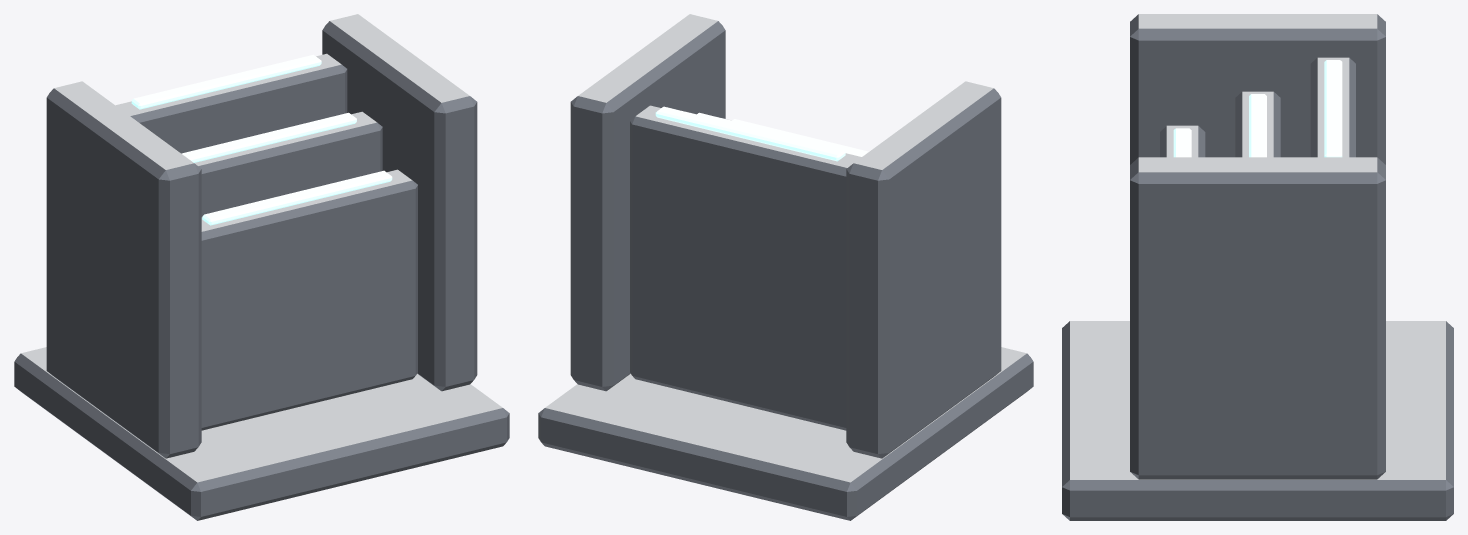
Rendered from R4X_WallDeployer_LOD1.fbx.
3 renders of one model, left to right at view 1: azimuth 30°, elevation 25°; view 2: azimuth 150°, elevation 25°; view 3: azimuth 270°, elevation 25°, orthographic. The views are drawn at different scales.
Visible parts, largest first — view 1: R4X_WallDeployer_LOD1; view 2: R4X_WallDeployer_LOD1; view 3: R4X_WallDeployer_LOD1.
Boxes of the visible parts, <box> form: R4X_WallDeployer_LOD1: <box>14,14,509,520</box>; R4X_WallDeployer_LOD1: <box>538,14,1033,520</box>; R4X_WallDeployer_LOD1: <box>1062,14,1453,520</box>.
Size of the model in its own units: 0.52 by 0.51 by 0.52.
